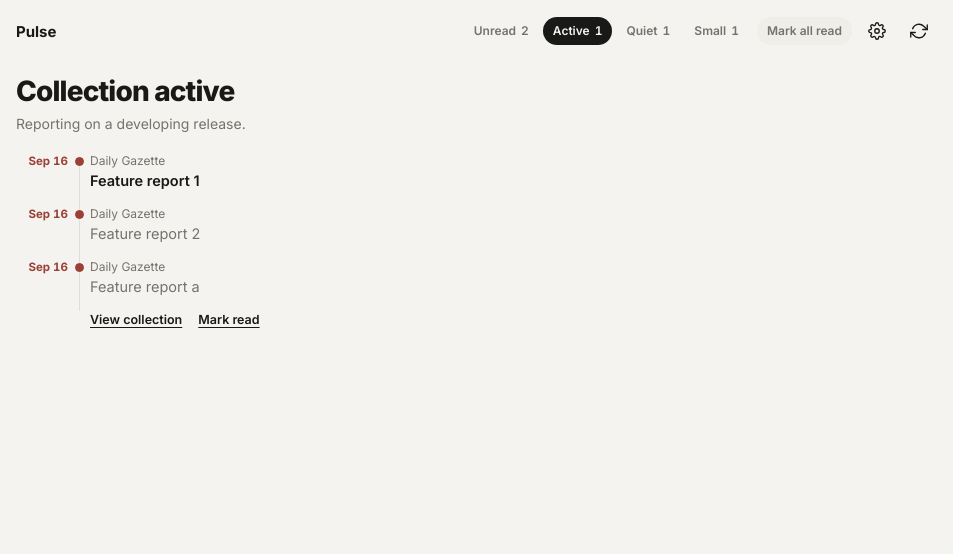
Scenario: Pulse visit and update interface › shows unread collections across active and quiet, then removes completed collections
Click the button "Unread 2" at coordinates (501, 31), box [464,17,539,45]
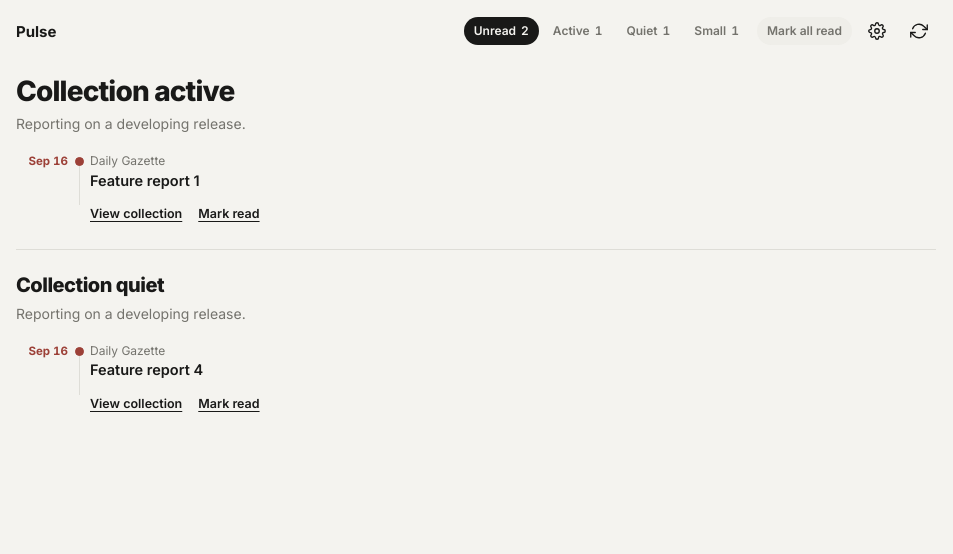
Check: the text "Feature report 3" is not shown
Check: the text "Feature report 4" is shown, box [90,361,203,378]
Check: the 2nd link "View collection" is shown, box [90,395,182,412]
Click the button "Collection quiet" at coordinates (90, 285), box [16,274,164,297]
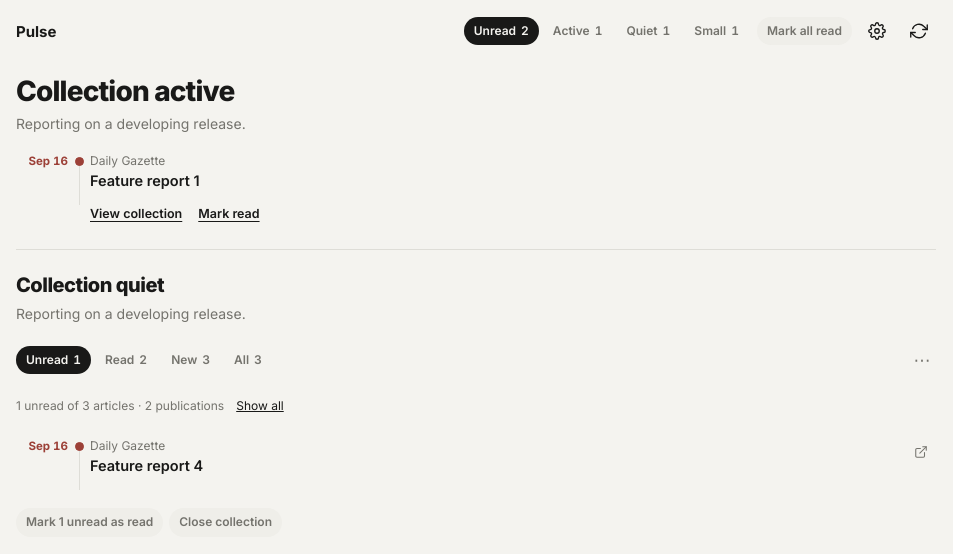
Click the button "Mark 1 unread as read" at coordinates (90, 523), box [16,508,163,537]
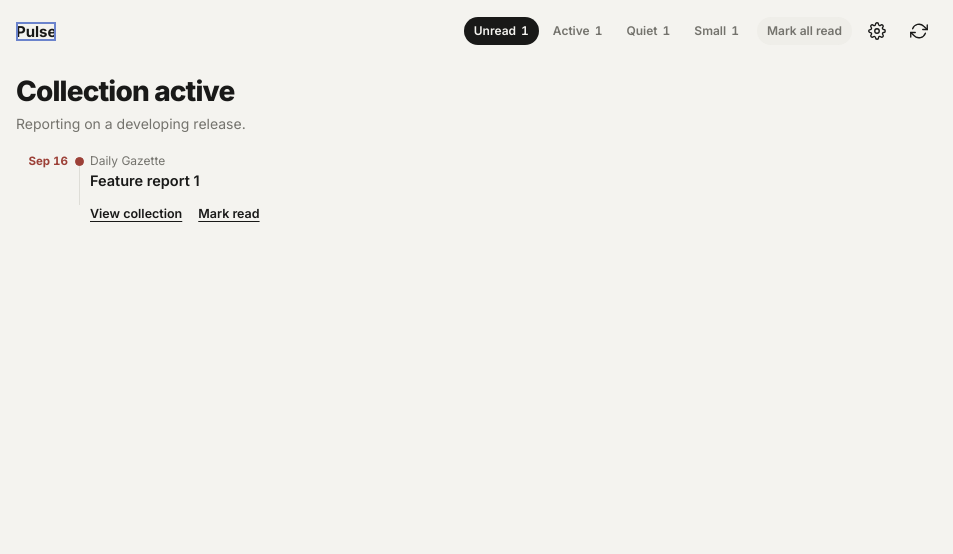
Check: the button "Unread 1" is shown, box [464,17,539,45]
Check: the text "Collection quiet" is gone
Click the button "Collection active" at coordinates (125, 91), box [16,76,234,106]
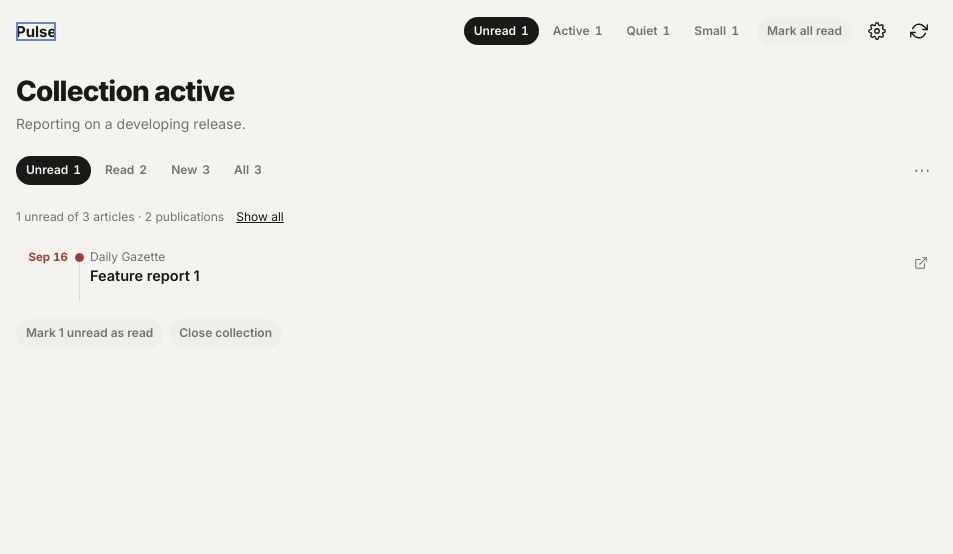
Click the button "Mark 1 unread as read" at coordinates (90, 333), box [16,319,163,348]
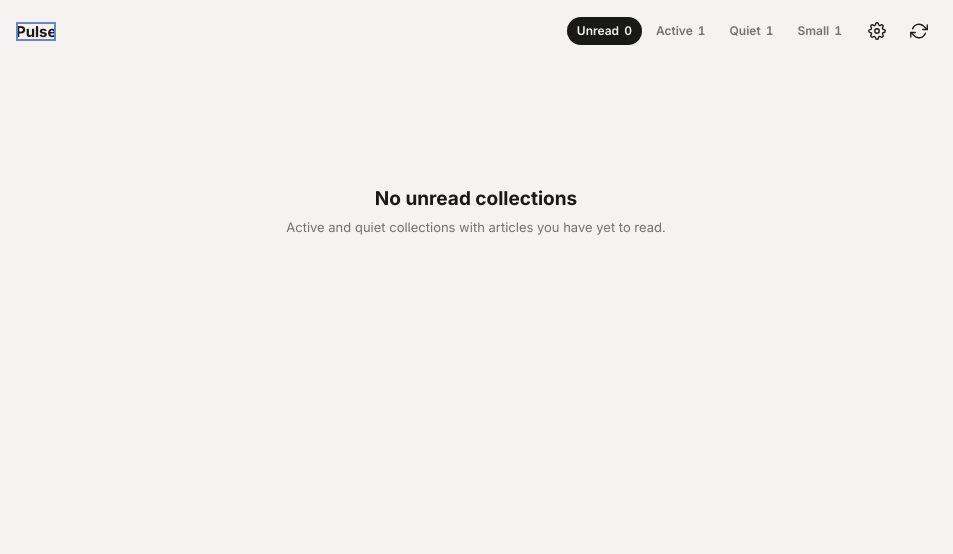
Check: the text "No unread collections" is shown, box [375,187,577,210]
Click the button "Quiet 1" at coordinates (751, 31), box [720,17,783,45]
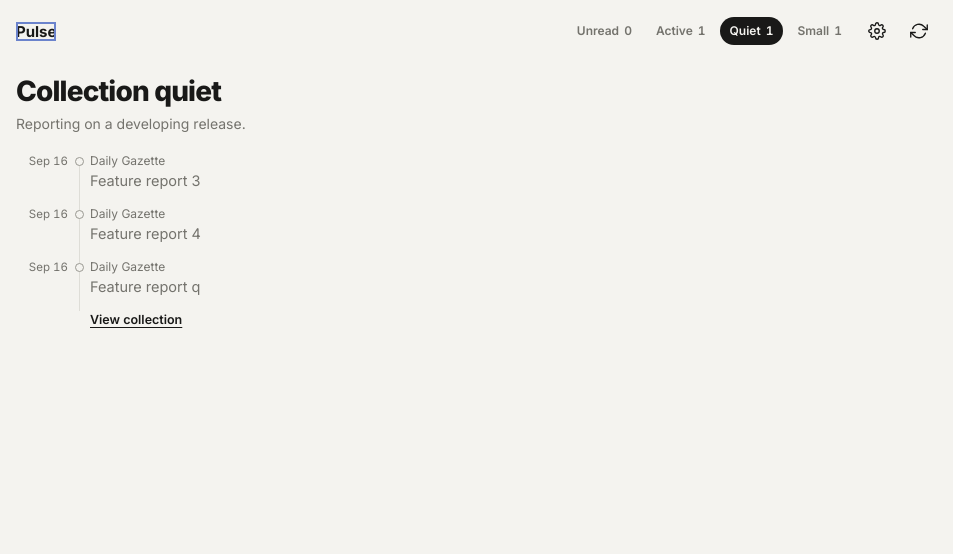
Check: the text "Collection quiet" is shown, box [16,76,221,106]
